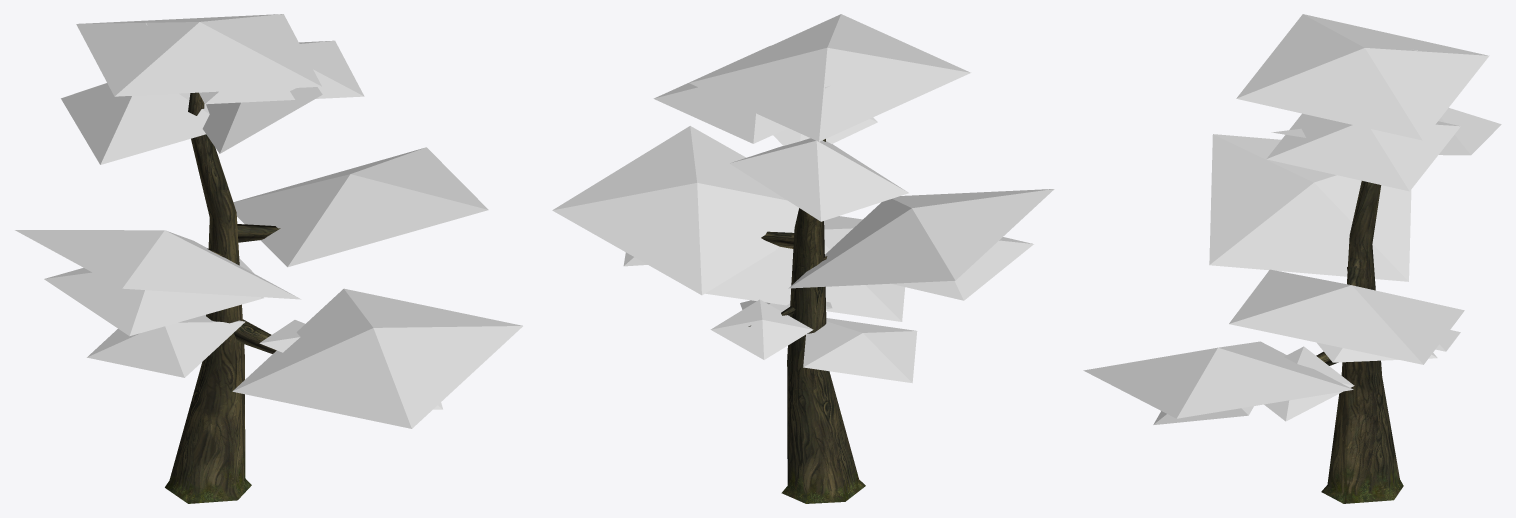
The model's file is BigTree3_NOLOD.fbx.
The picture shows the model from 3 angles, left to right: view 1: azimuth 30°, elevation 25°; view 2: azimuth 150°, elevation 25°; view 3: azimuth 270°, elevation 25°; orthographic projection. The views are drawn at different scales.
Parts seen in each view (by area): view 1: bigtree3_LOD0; view 2: bigtree3_LOD0; view 3: bigtree3_LOD0.
Part boxes in pixels (bbox=[...]): bigtree3_LOD0: bbox=[15, 14, 522, 503]; bigtree3_LOD0: bbox=[552, 14, 1054, 503]; bigtree3_LOD0: bbox=[1083, 14, 1501, 503].
Size of the model in its own units: 8571 by 9106 by 7901.
